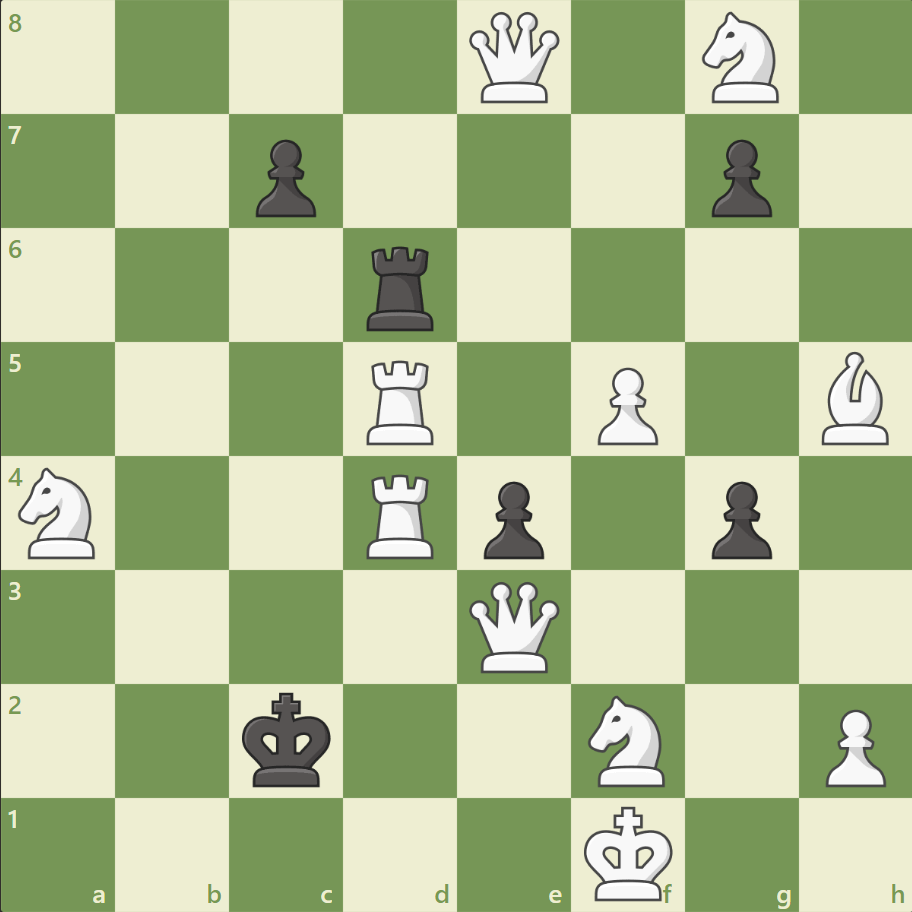B: (812, 347, 896, 449)
K: (579, 798, 679, 906)
N: (692, 7, 789, 110), (11, 461, 108, 564), (579, 688, 676, 791)
P: (588, 359, 662, 450), (815, 700, 889, 791)
Q: (464, 576, 563, 676), (464, 9, 563, 108)
R: (360, 352, 442, 449), (360, 466, 442, 563)
k: (238, 685, 338, 793)
p: (247, 132, 322, 223), (701, 132, 776, 223), (474, 473, 549, 564), (701, 473, 776, 564)
r: (360, 239, 442, 336)
